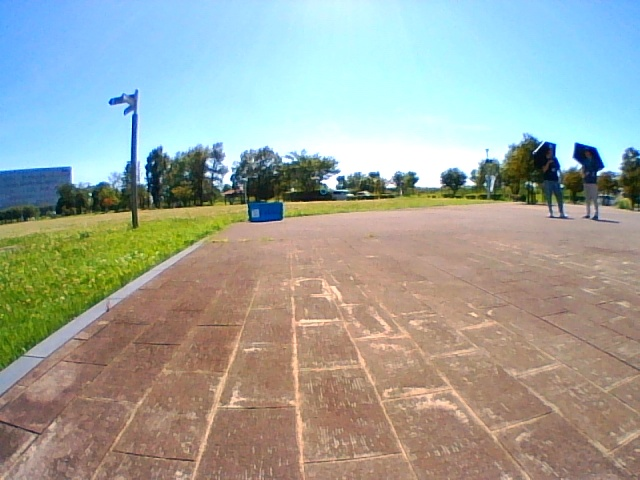blue_box: (249, 203, 283, 221)
tag: (252, 209, 258, 218)
